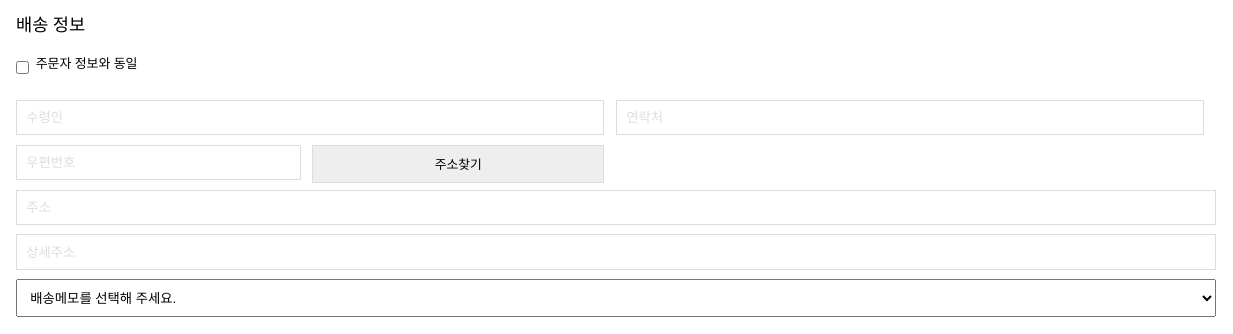
Test: ShippingInformation › 주문자 정보와 동일 checkbox › 주문자 정보와 동일 checkbox가 체크될 경우 › 배송 정보 수령인과 연락처에 주문자 정보 이름과 연락처가 자동입력 된다
The width and height of the screenshot is (1233, 334).
Click the checkbox labelled "주문자 정보와 동일".
click(22, 68)  # box [16,61,29,74]
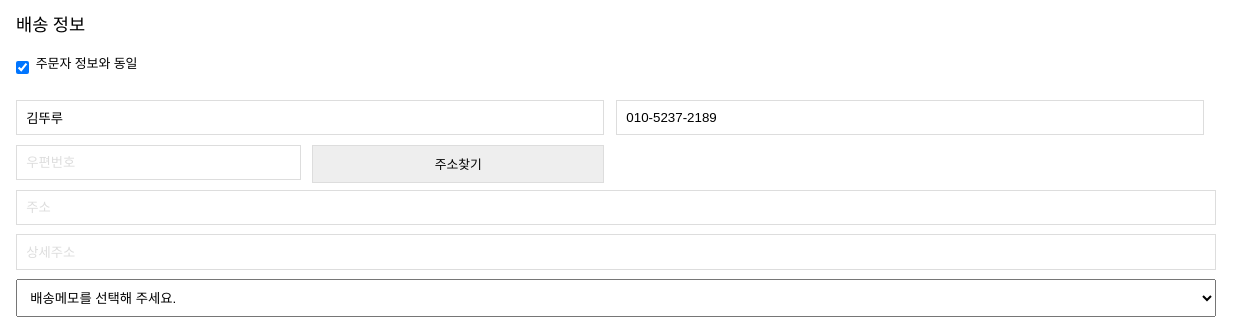
Expected: the checkbox labelled "주문자 정보와 동일" is checked, [16,61,29,74]
Expected: the 1st field with placeholder "수령인" holds "김뚜루", [16,100,604,135]
Expected: the 2nd field with placeholder "연락처" holds "010-5237-2189", [616,100,1204,135]
